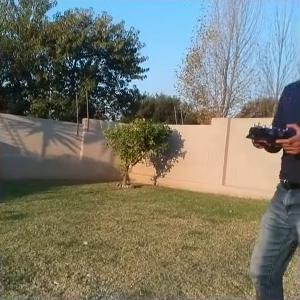follow: (241, 0, 299, 299)
